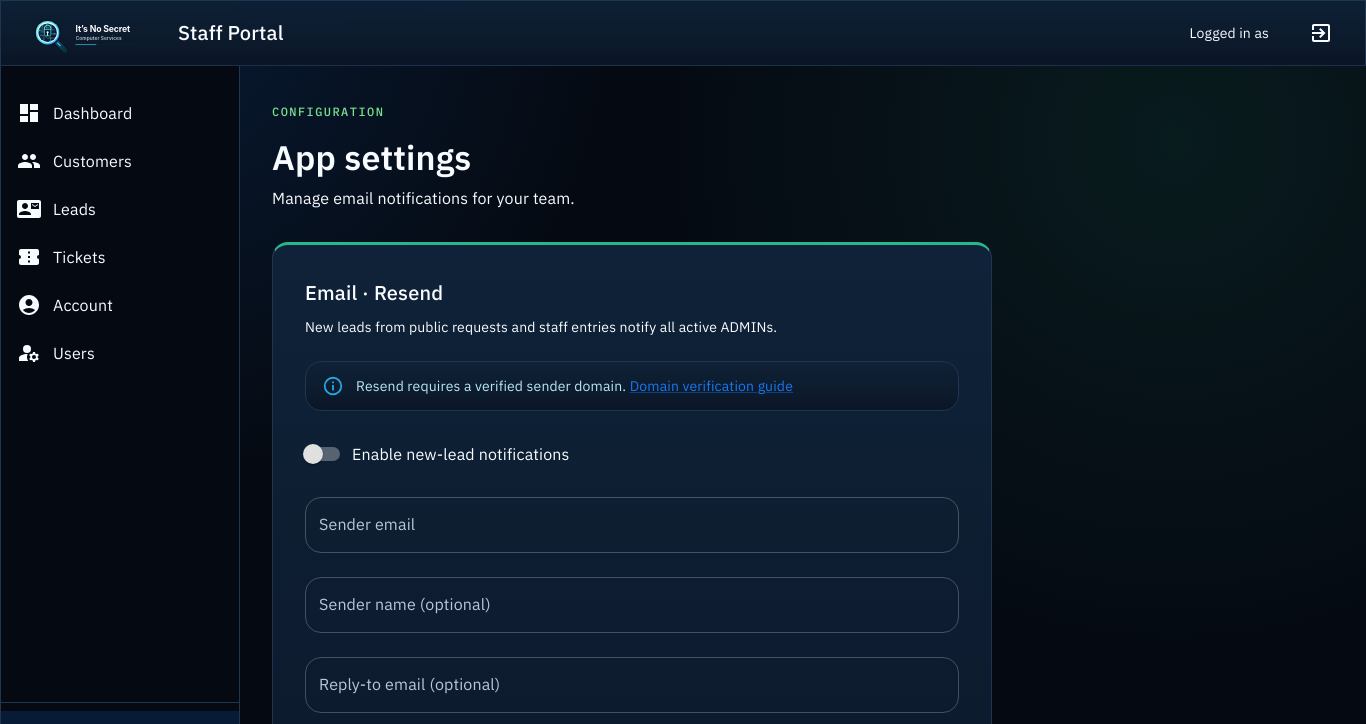
Scenario: warns on unloading dirty settings and discards changes without a request
In the field labelled "Sender email": {"x": 632, "y": 525} [305,497,959,553], type "unsaved@example.com"
(page scrolled)
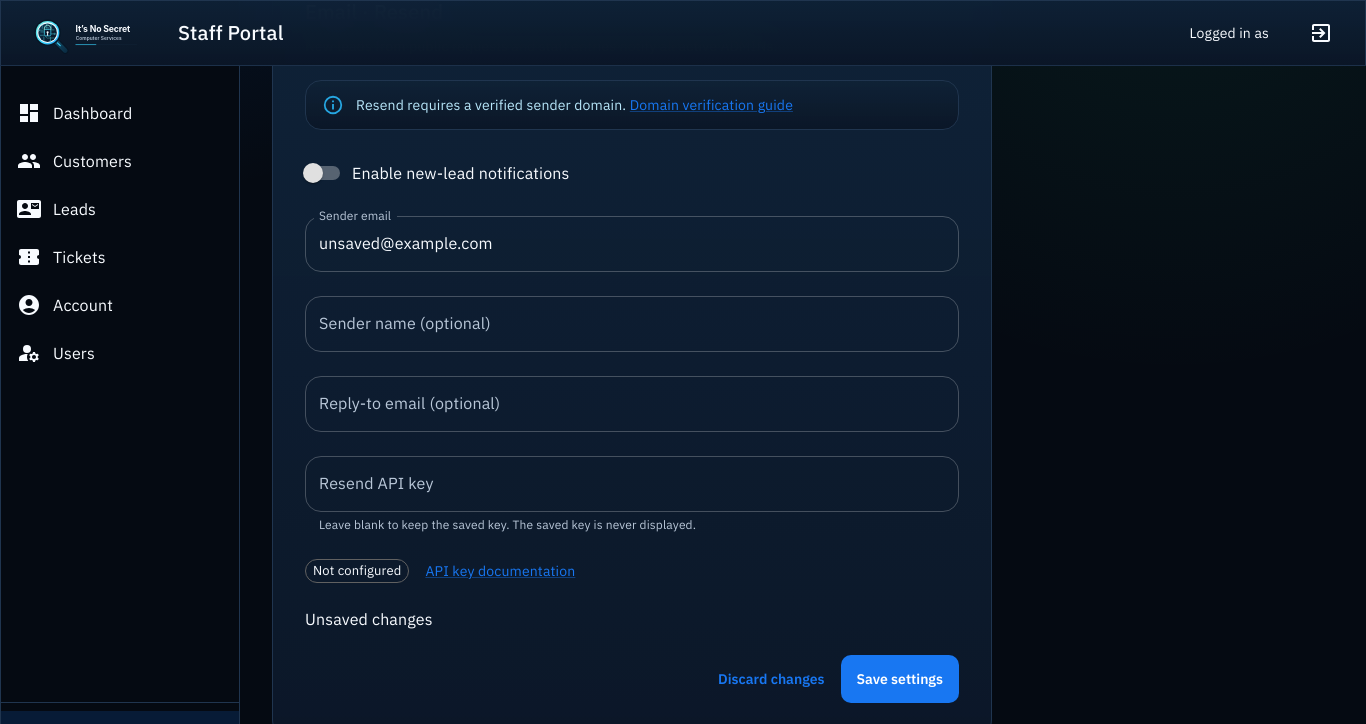
In the password field labelled "Resend API key": {"x": 632, "y": 484} [305,456,959,512], type "re_unsaved"
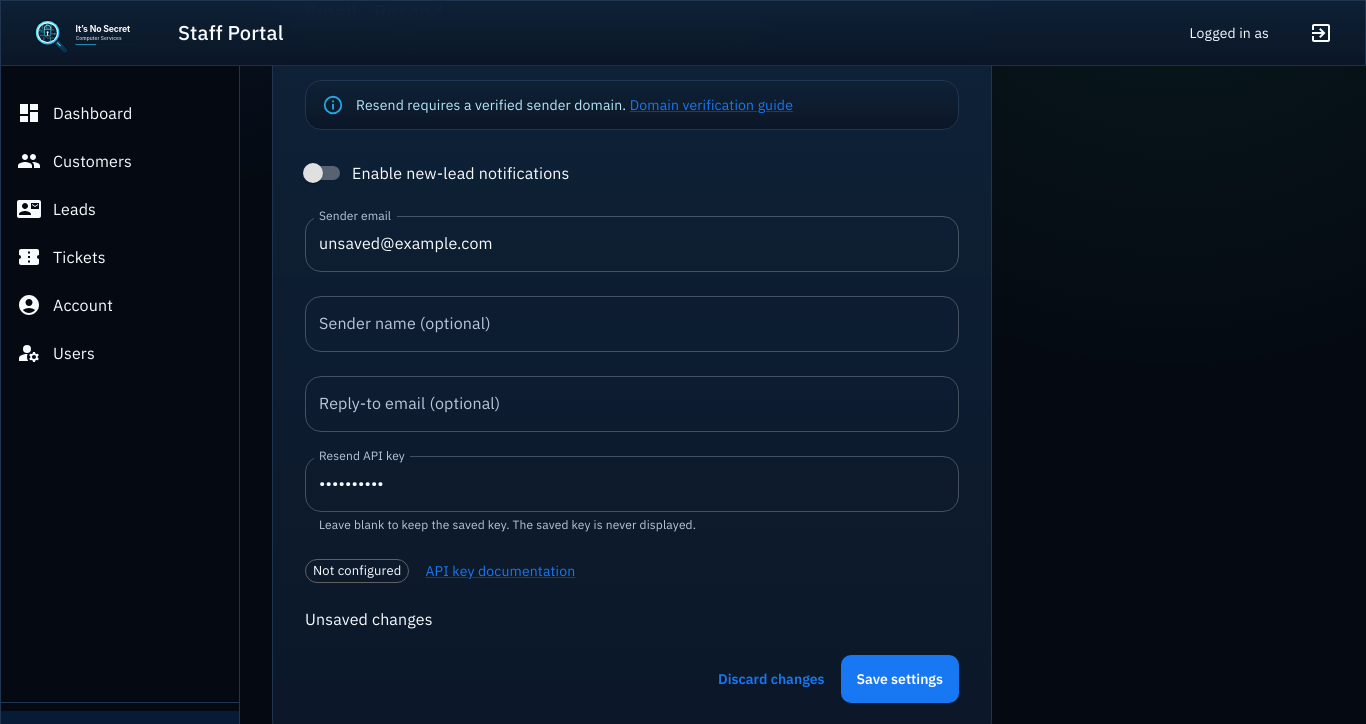
Click the button "Discard changes": {"x": 771, "y": 679} [710,655,833,703]
(page scrolled)
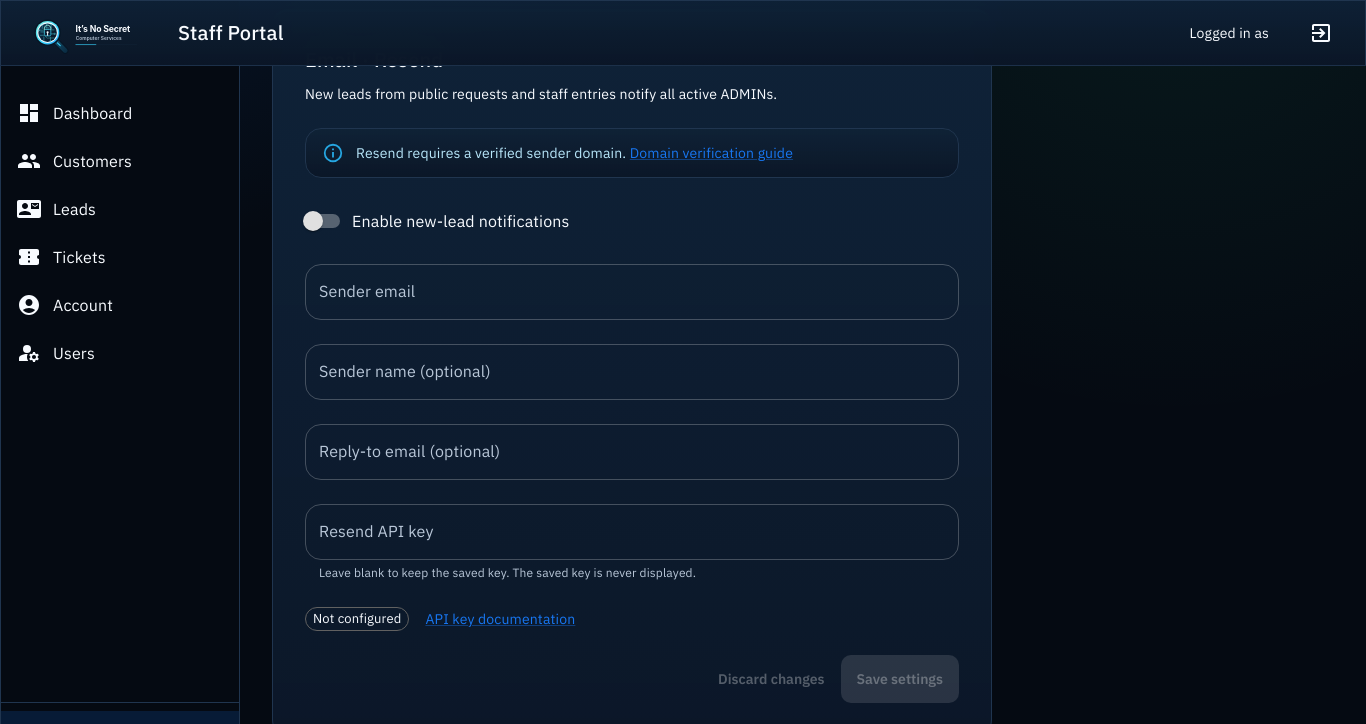
Expected: the field labelled "Sender email" is empty, [305,264,959,320]
Expected: the password field labelled "Resend API key" is empty, [305,504,959,560]
Expected: the button "Save settings" is disabled, [840,655,959,703]
